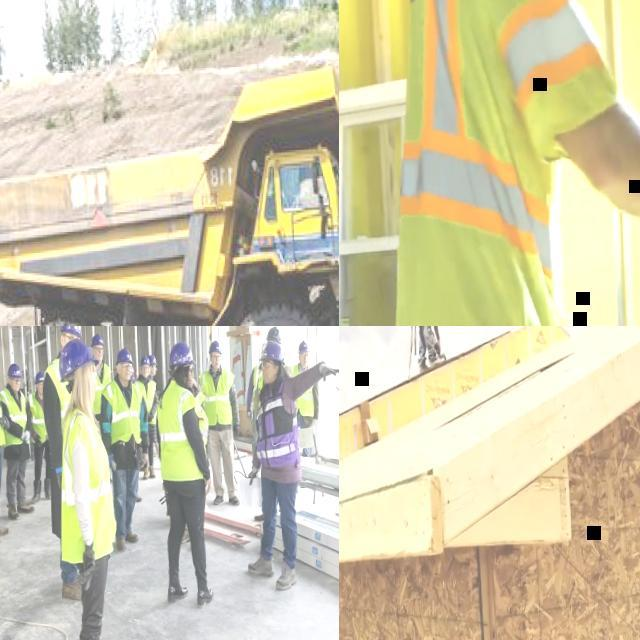Helmet: (50, 334, 104, 388), (262, 323, 296, 358), (166, 335, 196, 369), (49, 320, 88, 340), (204, 332, 229, 360), (84, 329, 111, 352), (116, 344, 132, 372), (264, 344, 284, 364), (138, 351, 156, 373), (7, 363, 23, 382), (34, 362, 47, 385), (294, 336, 309, 355), (150, 350, 158, 362)
Robbery: (338, 0, 640, 324), (54, 341, 111, 594), (260, 343, 312, 579), (162, 351, 202, 614), (196, 328, 241, 503), (107, 343, 140, 560), (0, 359, 25, 529), (250, 328, 297, 418), (287, 338, 326, 444), (27, 366, 50, 508), (44, 320, 87, 390), (147, 346, 176, 412), (87, 326, 110, 400), (140, 353, 160, 416)
